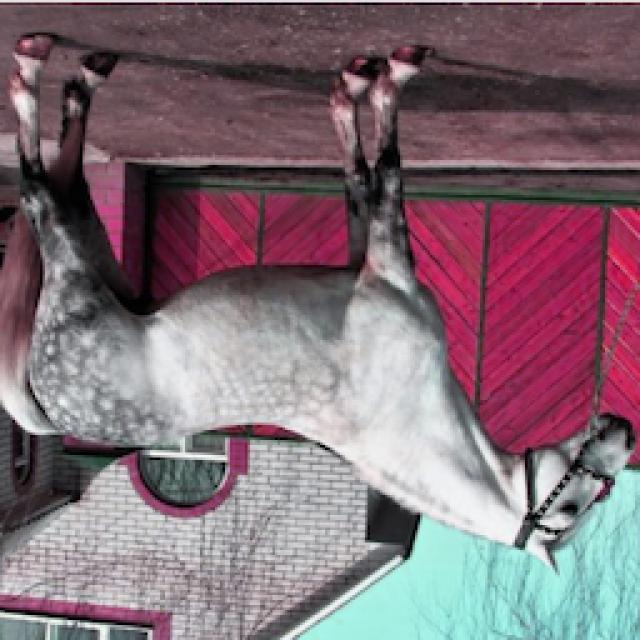Horse: (2, 30, 640, 580)
